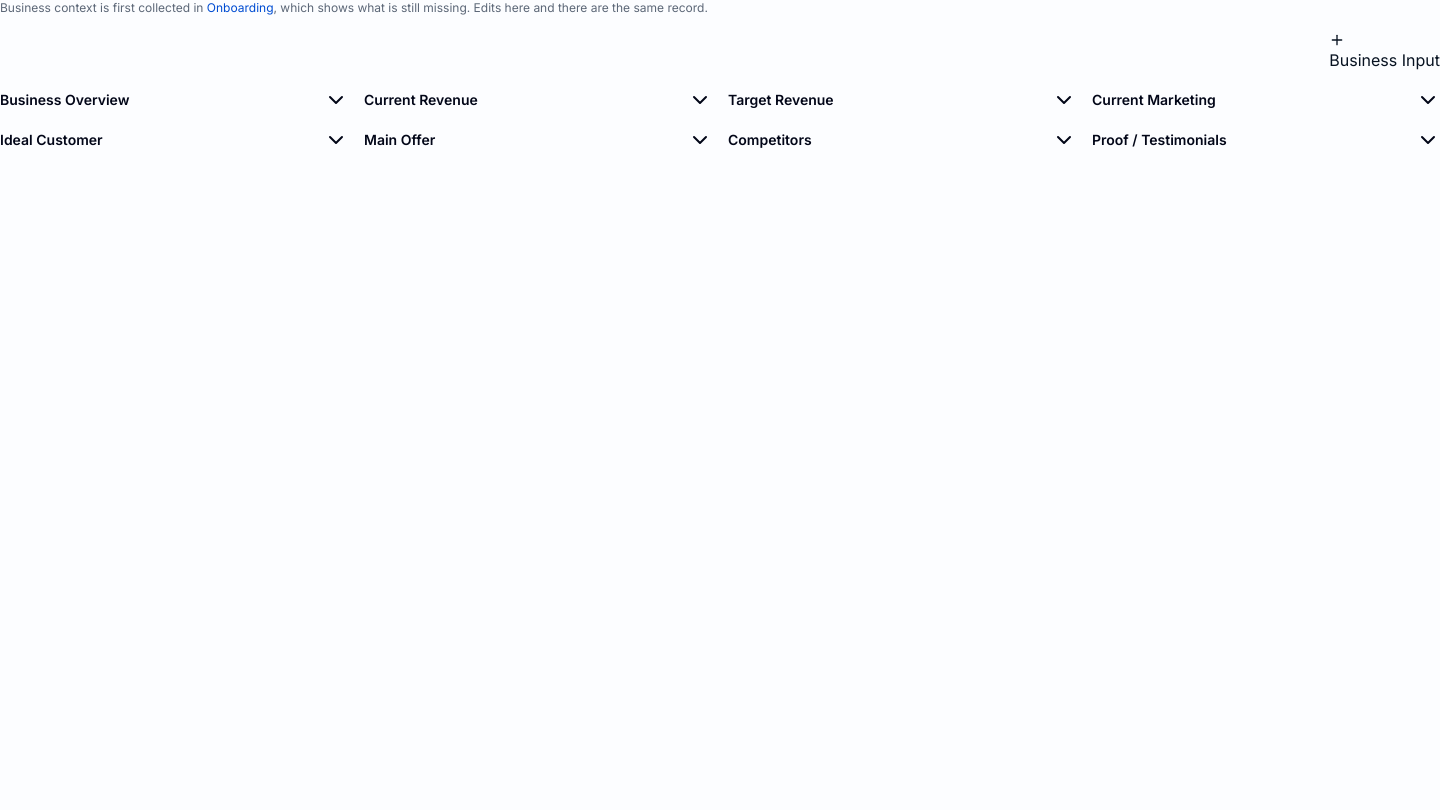
Scenario: drafting the business context › generates without notes, because the website is the source
Click the button "Business Input".
click(1385, 52)  # box [1329,32,1439,72]
(page scrolled)
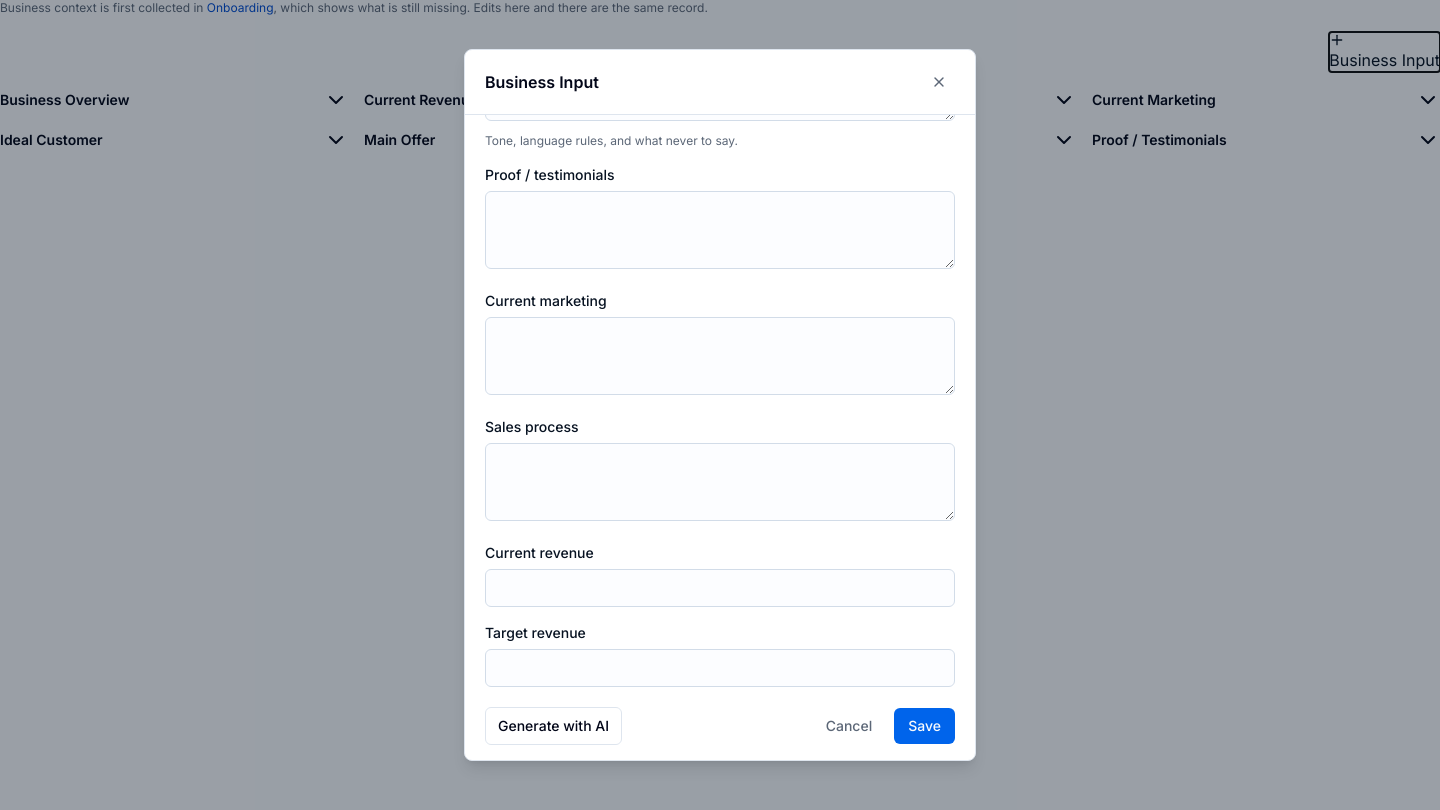
Click the button "Generate with AI".
click(554, 726)  # box [485,707,622,745]
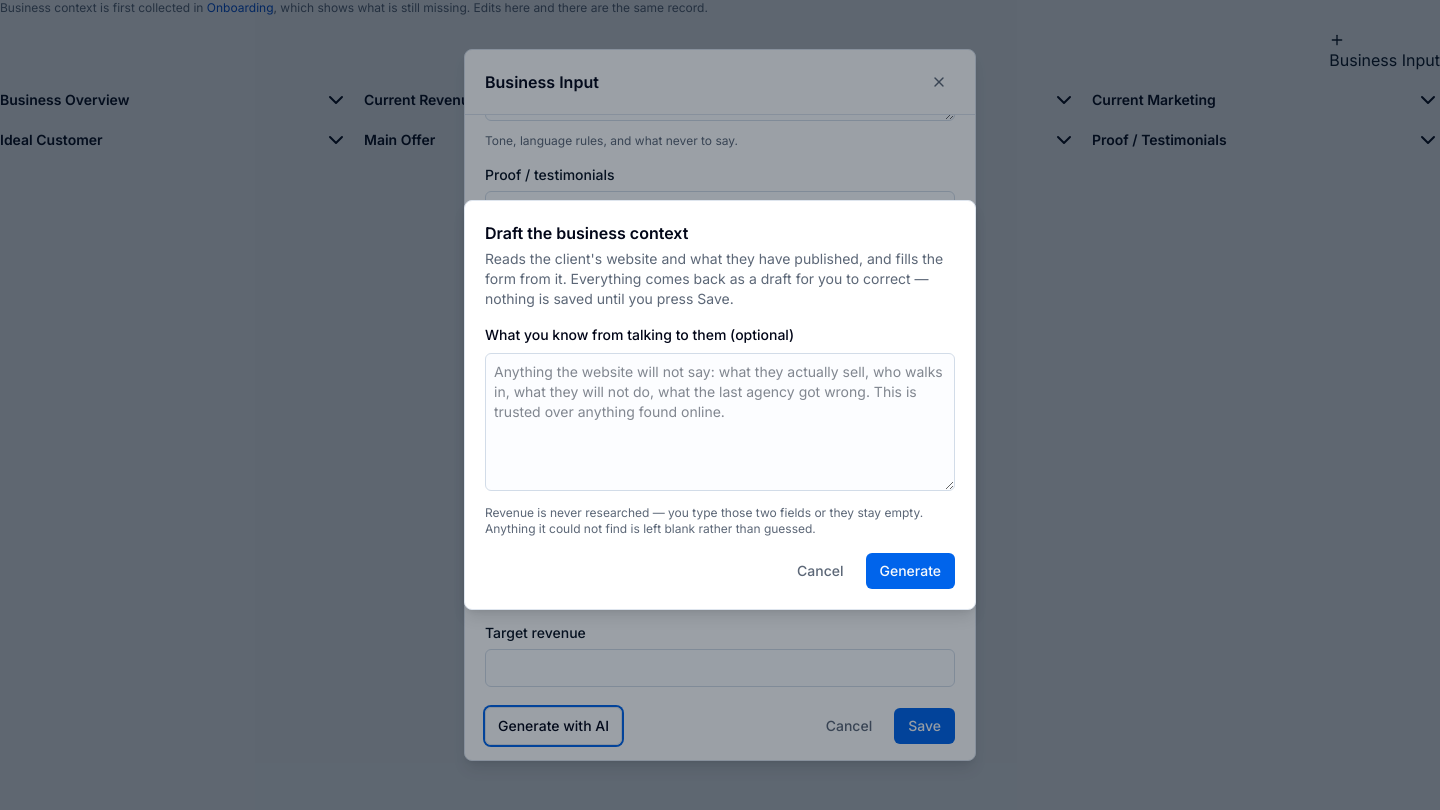
Result: the button "Generate" is enabled at [866,553,955,589]
